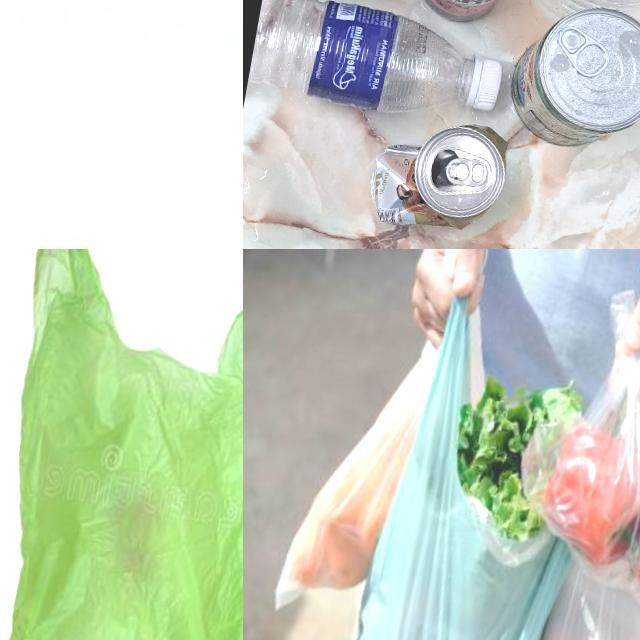aba de lata: (550, 22, 614, 82), (442, 152, 490, 191)
garrafa plástica: (246, 0, 509, 132)
lata: (503, 0, 640, 159), (367, 116, 512, 240)
sacola plástica: (0, 249, 243, 640), (312, 352, 599, 640), (261, 292, 446, 640), (0, 0, 243, 249), (539, 338, 640, 603)
tampa plástica: (459, 52, 504, 112)
